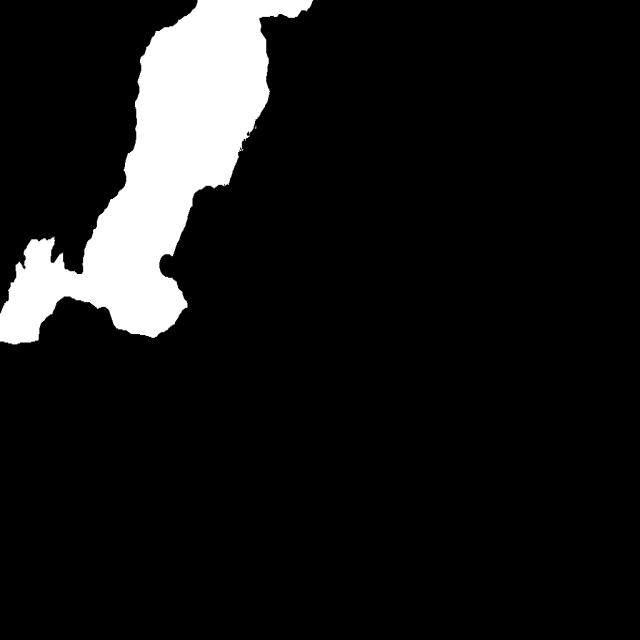fire: (0, 32, 302, 375)
